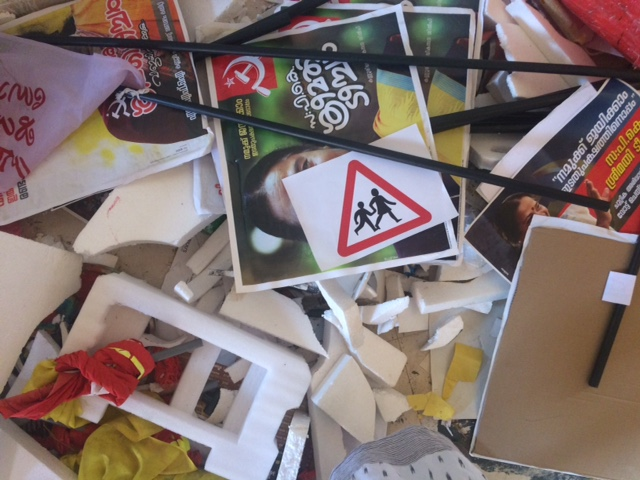sign: (335, 157, 433, 259)
